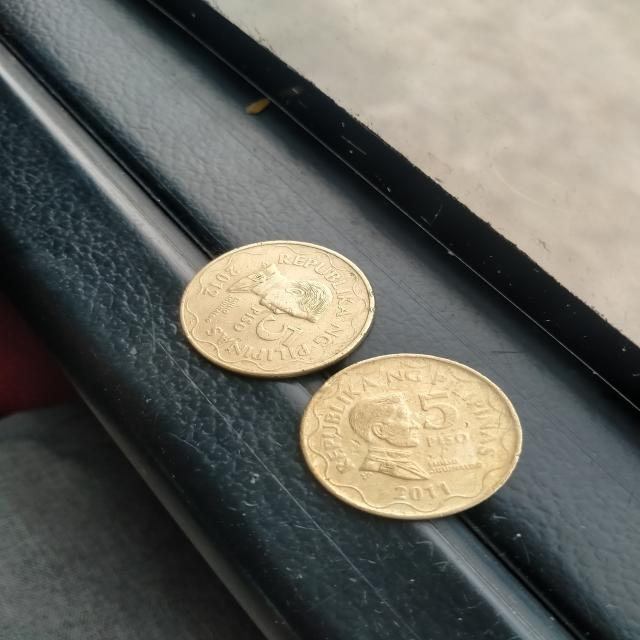5_Old_Front: (408, 386, 482, 458), (225, 303, 299, 352)
